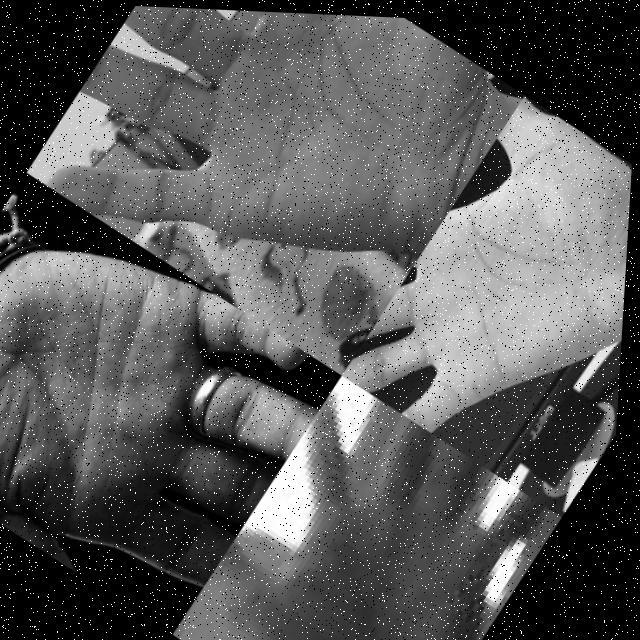no-gloves: (20, 1, 529, 378), (0, 178, 355, 639), (341, 84, 637, 492), (182, 365, 570, 640)
